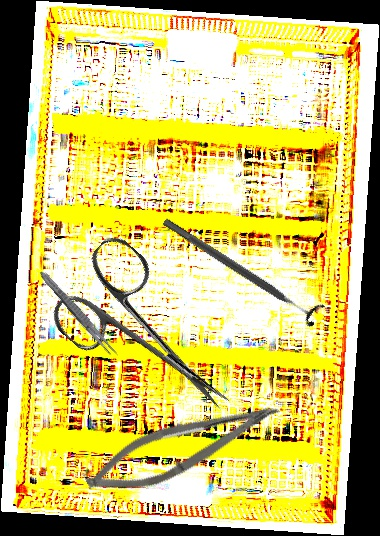Dressing Forceps: (36, 267, 121, 361)
Fixation Ring: (157, 209, 326, 329)
Iris Scissors: (39, 230, 264, 445)
Micro Scissor: (78, 379, 287, 512)
